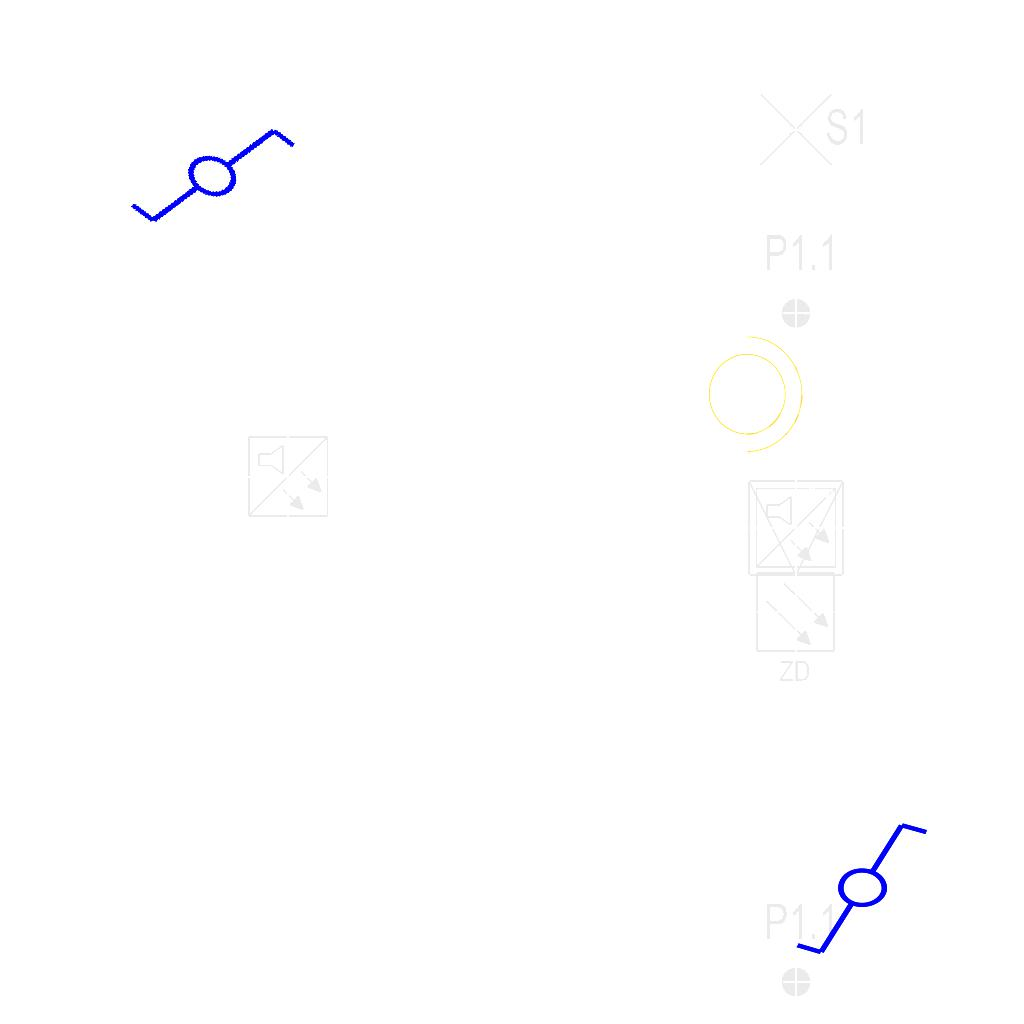Scheinwerfer_fuer_Alarmbeleuchtung: (696, 325, 808, 457)
Wechselschalter: (106, 75, 305, 267), (792, 818, 949, 962)
